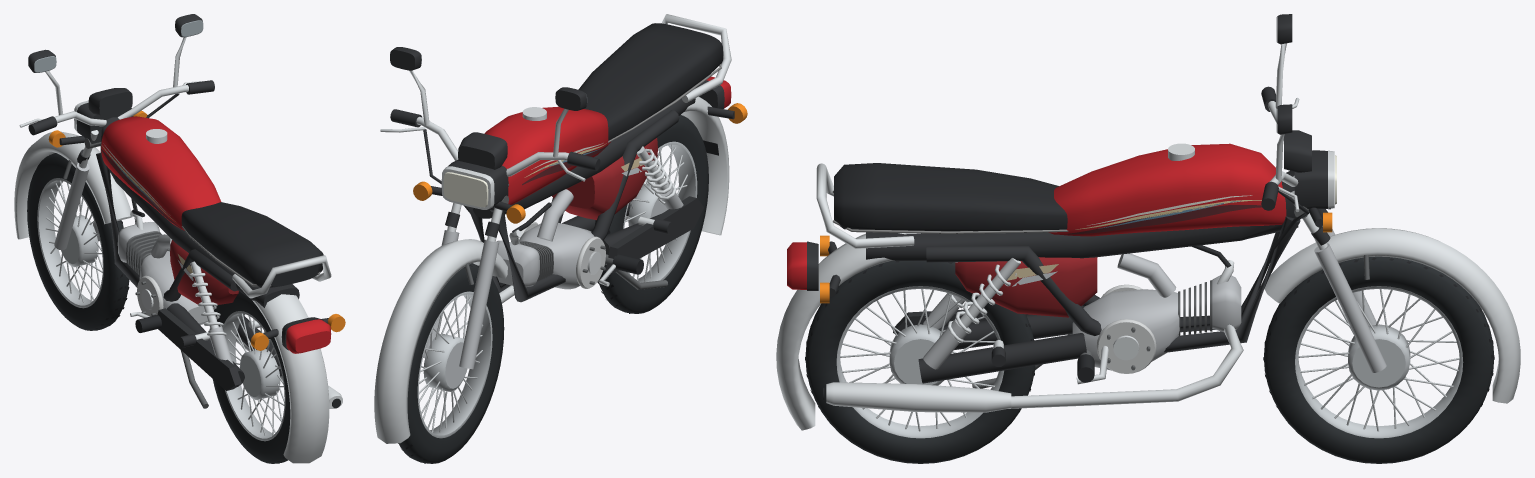
Rendered from unique70.glb.
The picture shows the model from 3 angles, left to right: view 1: azimuth 30°, elevation 25°; view 2: azimuth 150°, elevation 25°; view 3: azimuth 270°, elevation 25°; orthographic projection. The views are drawn at different scales.
Visible parts, largest first — view 1: Frame, tank, saddle and powertrain, Spoked wheel and tread.001, Steering head, forks, front fender and controls, Spoked wheel and tread, Mirror housing and reflector.001, Mirror housing and reflector; view 2: Frame, tank, saddle and powertrain, Steering head, forks, front fender and controls, Spoked wheel and tread.001, Spoked wheel and tread, Mirror housing and reflector, Mirror housing and reflector.001; view 3: Frame, tank, saddle and powertrain, Spoked wheel and tread.001, Spoked wheel and tread, Steering head, forks, front fender and controls, Tapered chrome muffler.
Boxes of the visible parts, x1,y1,x2,y2 form: Frame, tank, saddle and powertrain: (96,116,345,463); Spoked wheel and tread.001: (27,153,129,330); Steering head, forks, front fender and controls: (14,37,214,250); Spoked wheel and tread: (209,291,290,463); Mirror housing and reflector.001: (175,14,203,37); Mirror housing and reflector: (28,49,56,72); Frame, tank, saddle and powertrain: (467,14,747,303); Steering head, forks, front fender and controls: (374,70,600,443); Spoked wheel and tread.001: (398,263,504,463); Spoked wheel and tread: (595,114,708,313); Mirror housing and reflector: (555,87,587,110); Mirror housing and reflector.001: (390,47,421,70); Frame, tank, saddle and powertrain: (776,143,1300,430); Spoked wheel and tread.001: (1263,256,1494,463); Spoked wheel and tread: (805,261,1035,463); Steering head, forks, front fender and controls: (1261,43,1520,403); Tapered chrome muffler: (823,382,1011,412).
Bounding box in the file's own units: 0.6985 × 1.16 × 1.96.
